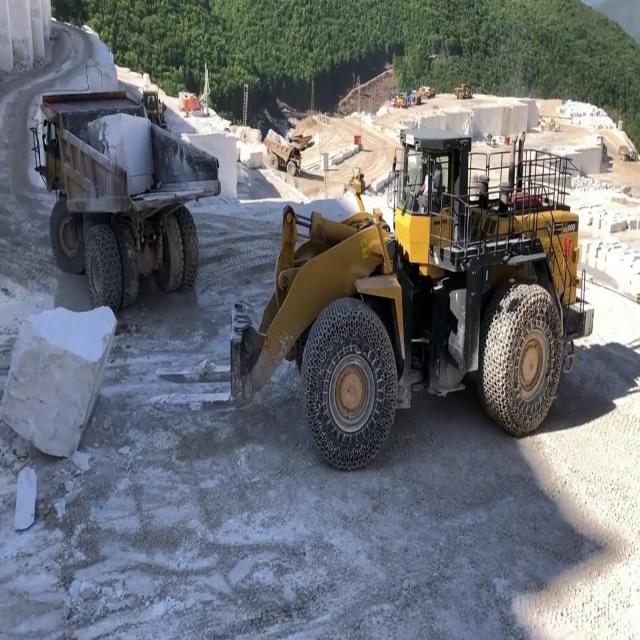Dump Truck: (29, 79, 219, 318)
Loader: (147, 128, 595, 471)
